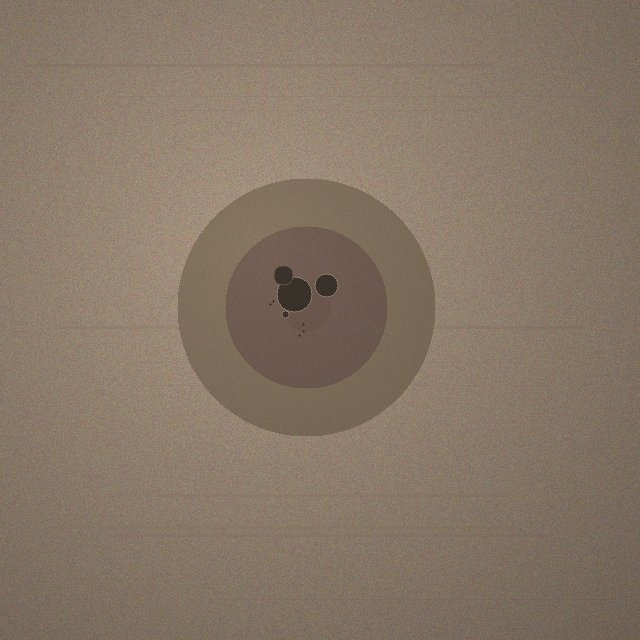shrinkage: (177, 178, 435, 436)
